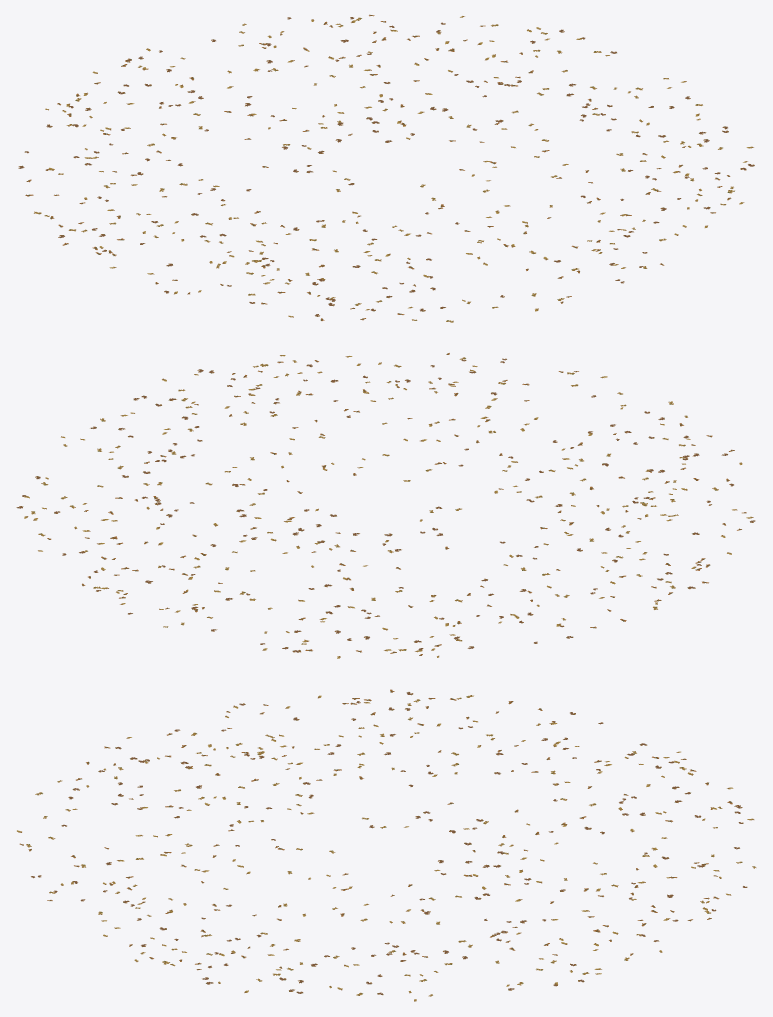
File: millenaire.fbx
The picture shows the model from 3 angles, top to bottom: view 1: azimuth 30°, elevation 25°; view 2: azimuth 150°, elevation 25°; view 3: azimuth 270°, elevation 25°; orthographic projection.
Parts seen in each view (by area): view 1: millenaire_feuilles_sol; view 2: millenaire_feuilles_sol; view 3: millenaire_feuilles_sol.
Part boxes in pixels (x1=…): millenaire_feuilles_sol: x1=18, y1=14, x2=754, y2=322; millenaire_feuilles_sol: x1=16, y1=353, x2=755, y2=658; millenaire_feuilles_sol: x1=17, y1=689, x2=756, y2=1001.
Size of what is drawn, in the model's own units: 33.33 by 0.00598 by 33.39.
